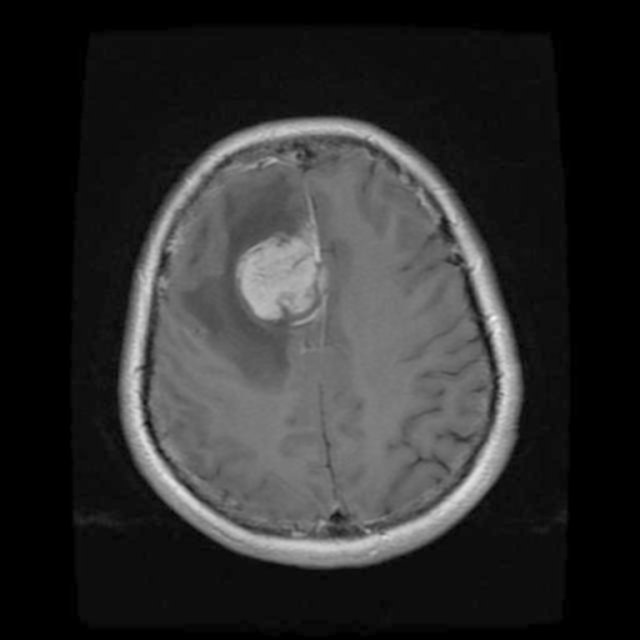meningioma tumor: (231, 230, 331, 334)
